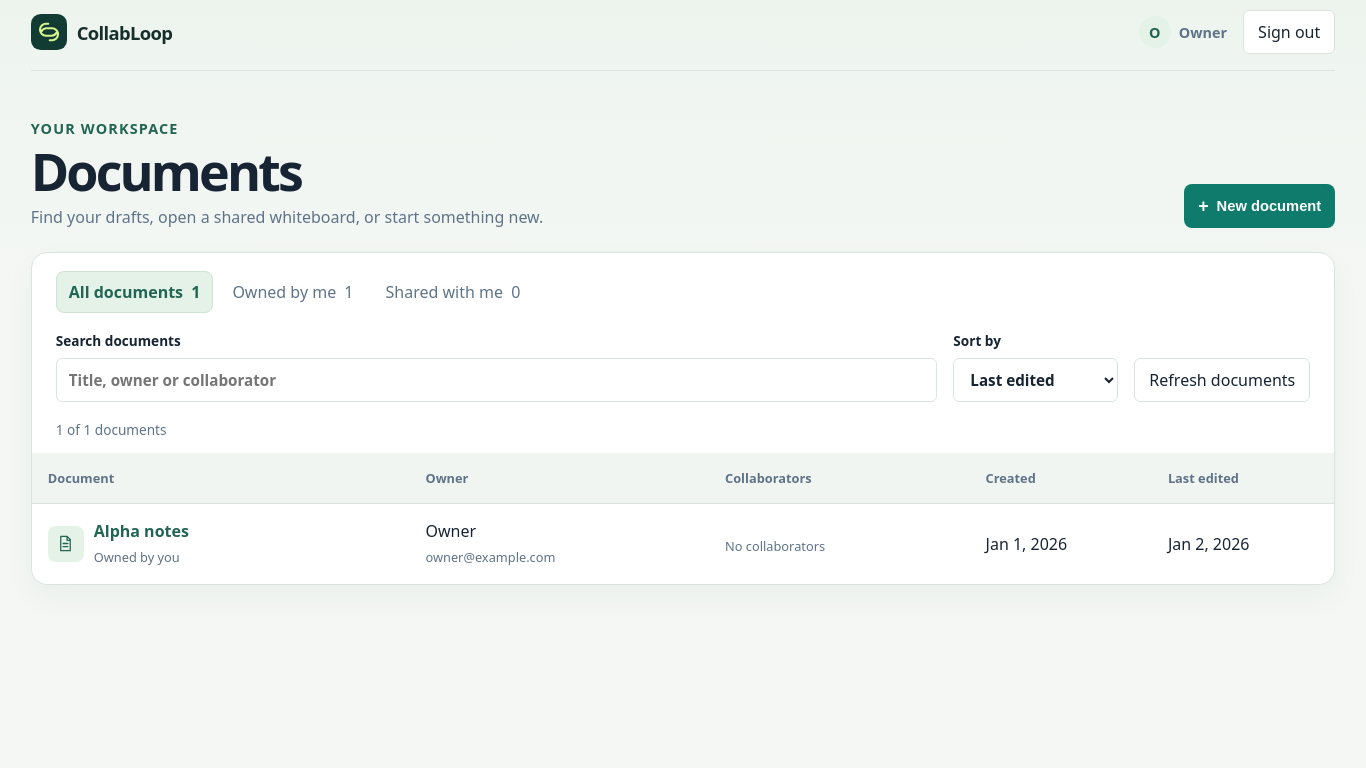
Test case: deleting the last document returns to an empty overview without replacing it
Step 1. Click the button "Alpha notes" → (141, 531), box [94, 520, 189, 542]
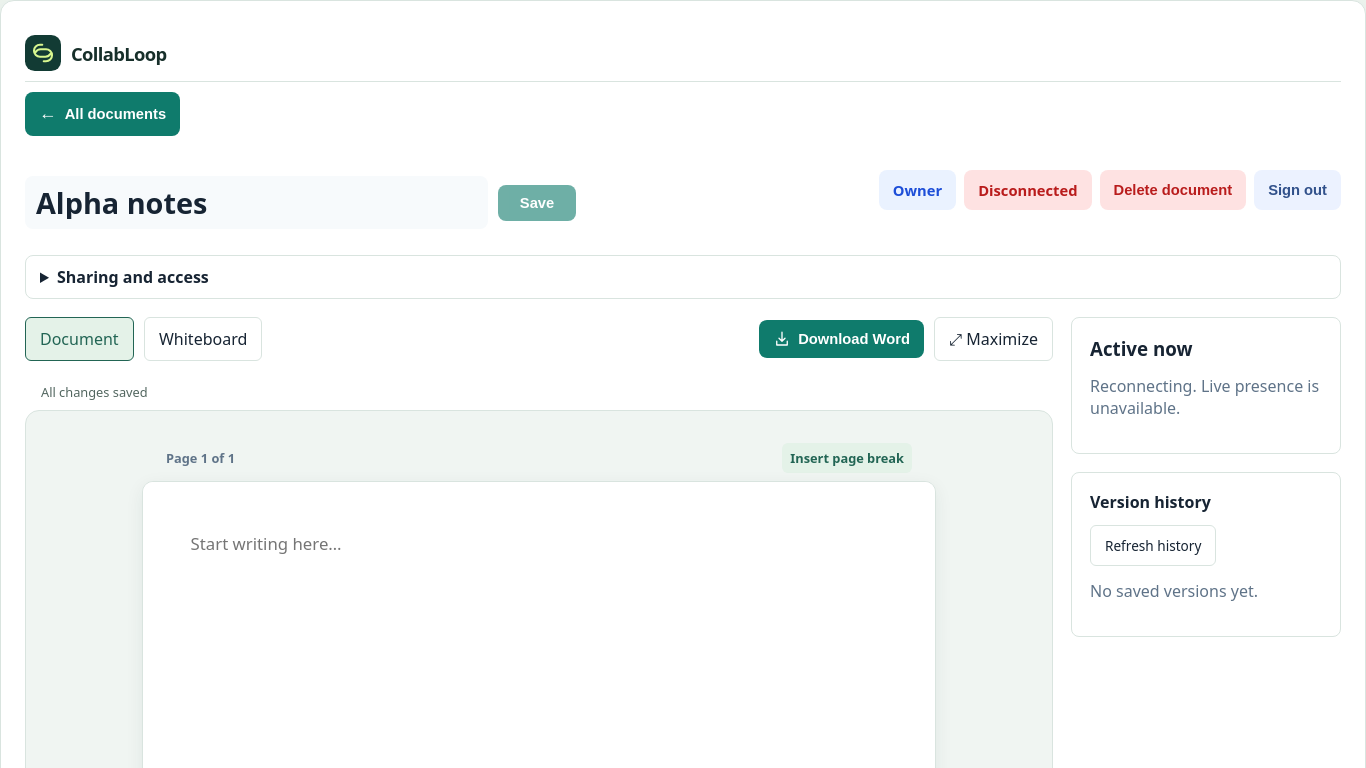
Step 2. Click the button "Delete document" → (1173, 190), box [1100, 170, 1246, 210]
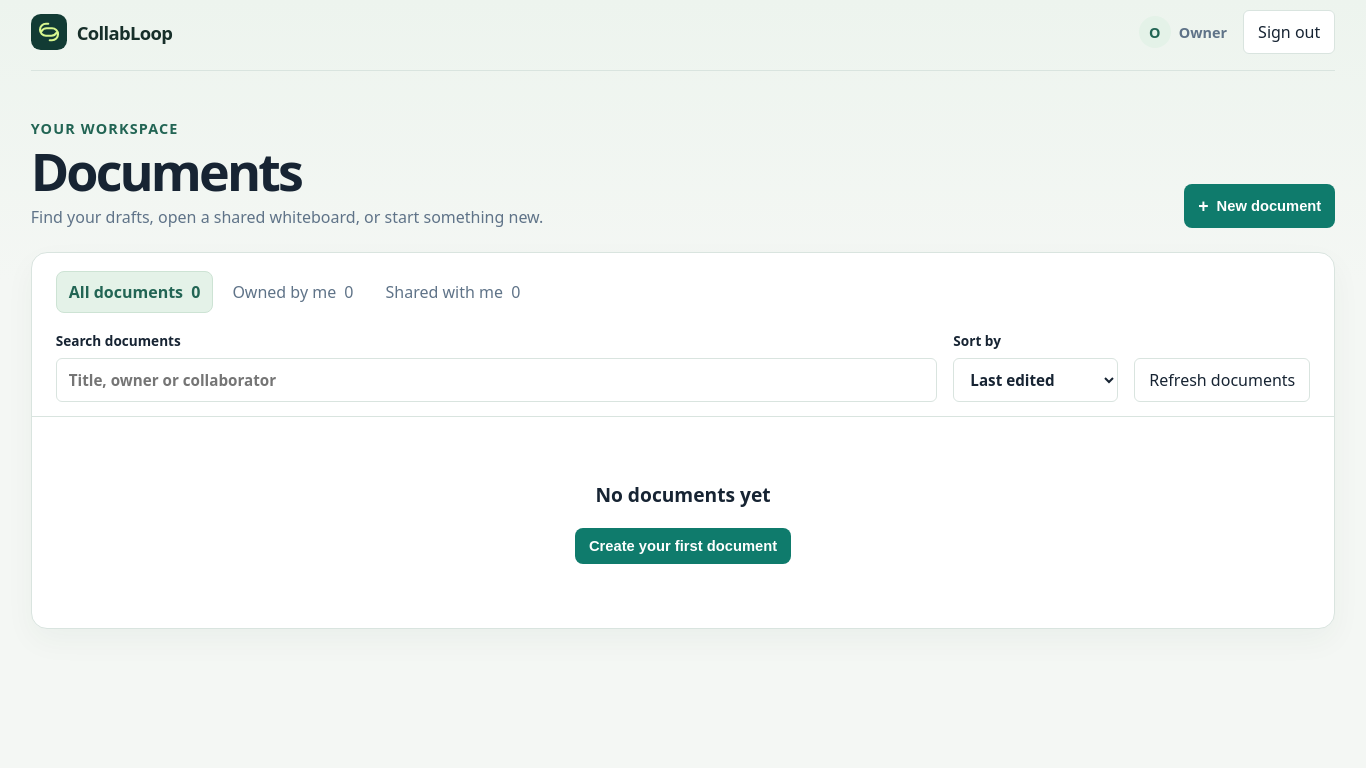
Result: the heading "No documents yet" is shown at [595, 481, 771, 508]
